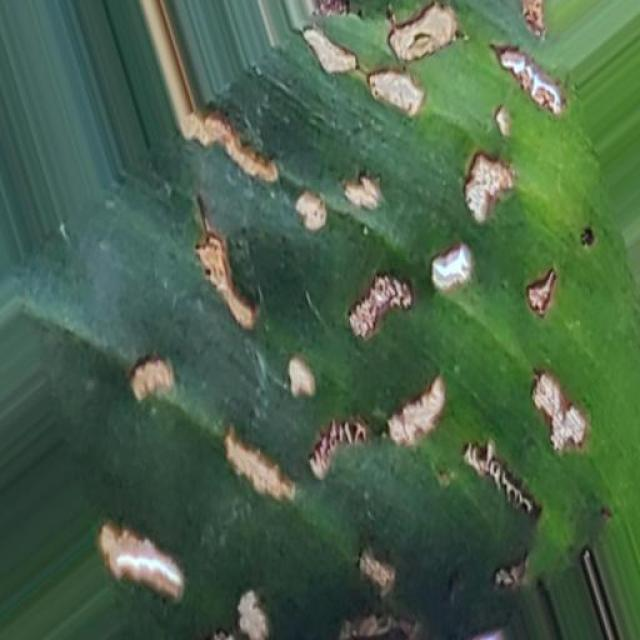Black_rot: (91, 0, 638, 640)
